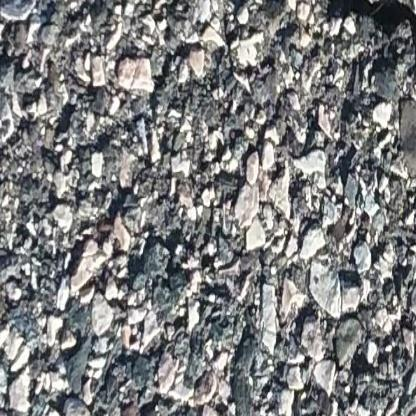Cracks: (197, 0, 416, 72), (398, 158, 416, 225)
